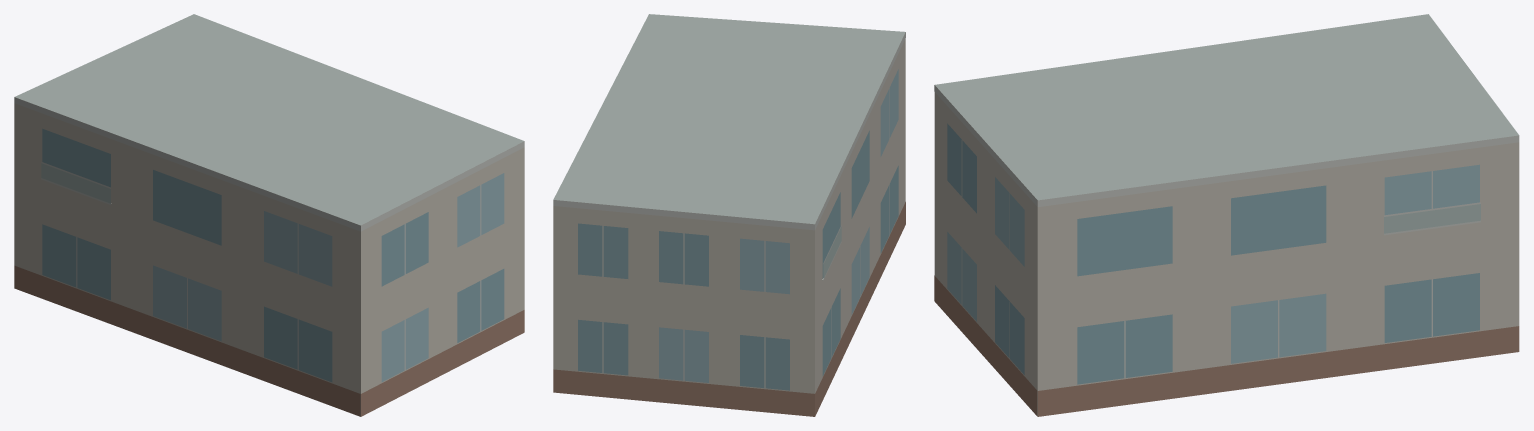
The model's file is survey-upis-32636387.glb.
The picture shows the model from 3 angles, left to right: view 1: azimuth 30°, elevation 25°; view 2: azimuth 150°, elevation 25°; view 3: azimuth 270°, elevation 25°; orthographic projection. The views are drawn at different scales.
Visible parts, largest first — view 1: survey-upis-32636387.tmp; view 2: survey-upis-32636387.tmp; view 3: survey-upis-32636387.tmp.
Boxes of the visible parts, x1,y1,x2,y2 form: survey-upis-32636387.tmp: (14, 14, 524, 416); survey-upis-32636387.tmp: (553, 14, 905, 416); survey-upis-32636387.tmp: (934, 14, 1519, 416).
Size of the model in its own units: 14.23 by 7.7 by 18.87.
